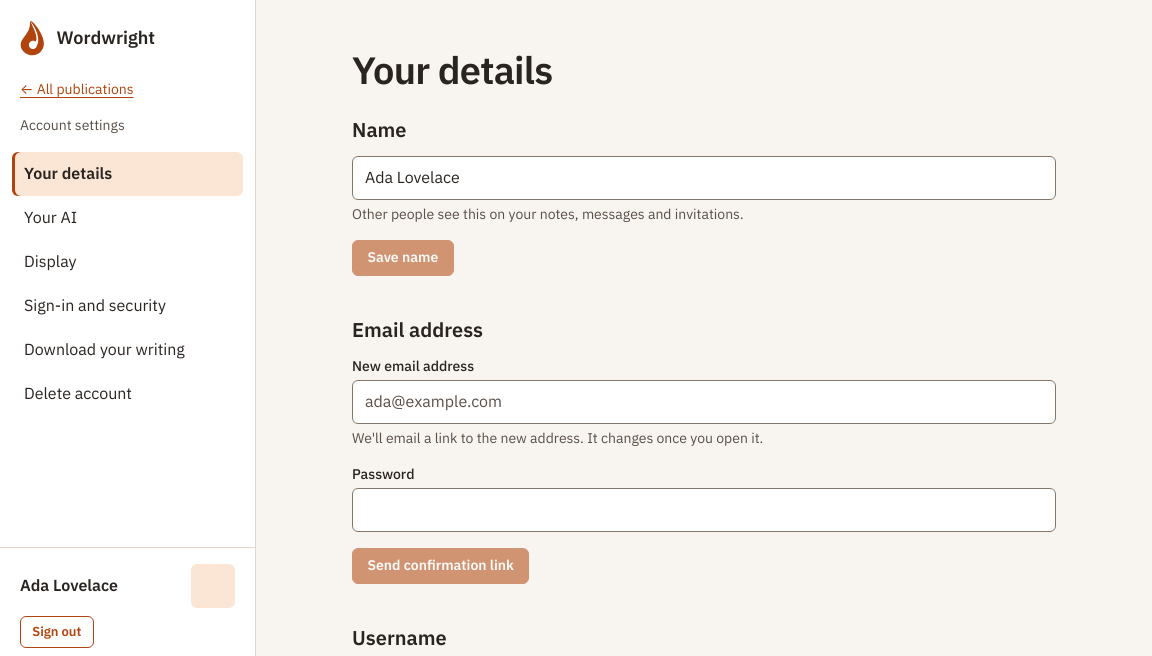
Test case: your name on the account page › says it is saving, and cannot be pressed twice
Replace the text in the 1st field named "Name" with "Slow Ada" at (704, 178), box [352,156,1056,200]
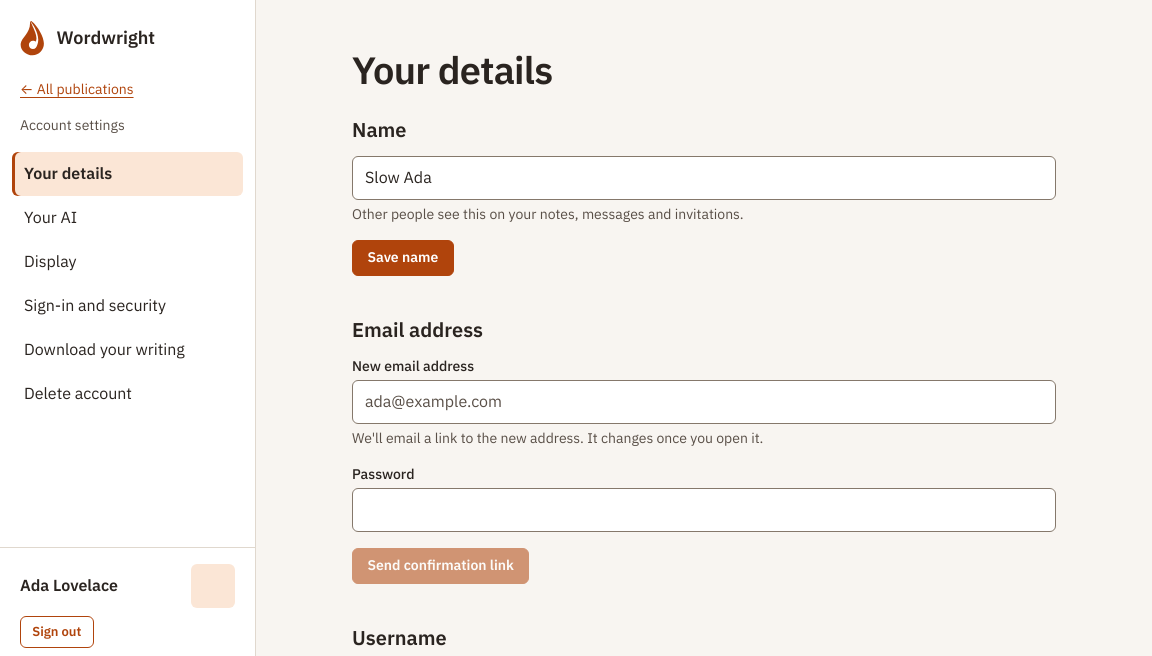
Click the button "Save name" at (403, 258), box [352,240,454,276]
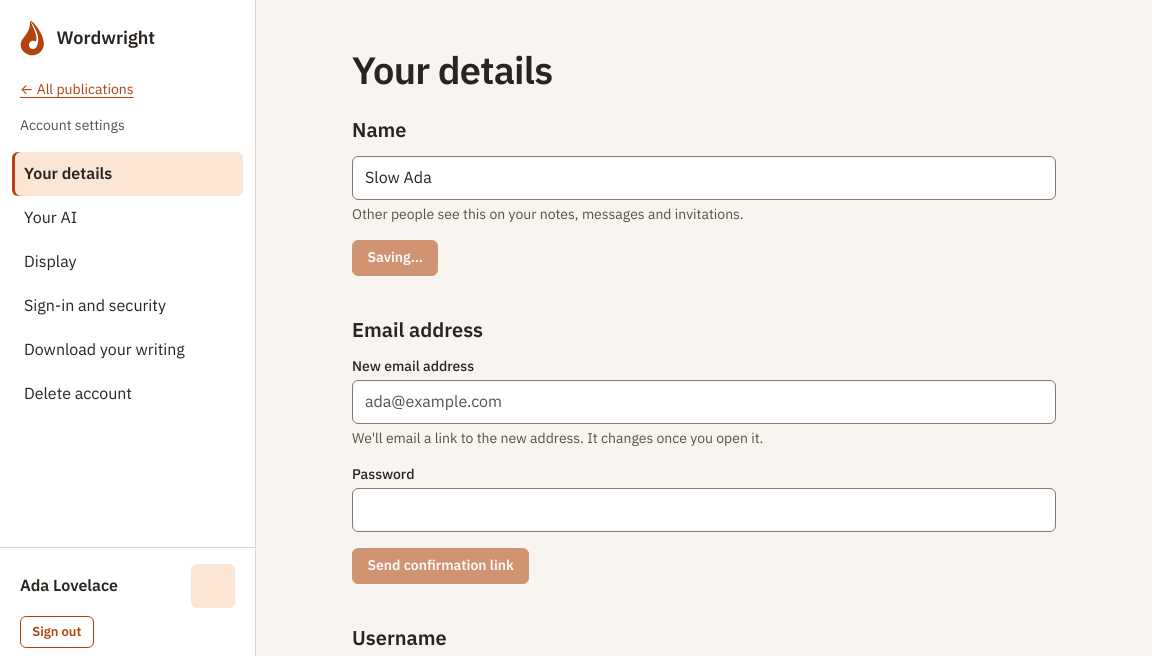
Now the button named "Save name" is disabled
Now the button named "Save name" reads "Saving…"
Click the button named "Save name" at (395, 258), box [352,240,438,276]
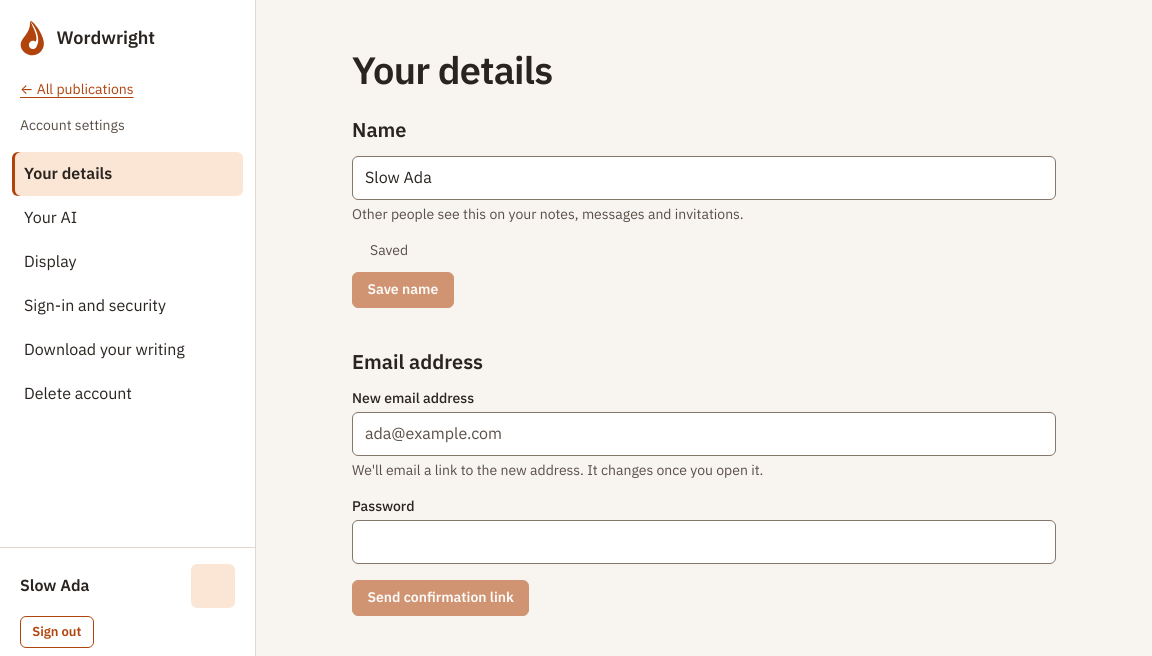
Now the text "Saved" is shown, box [352,241,408,259]
